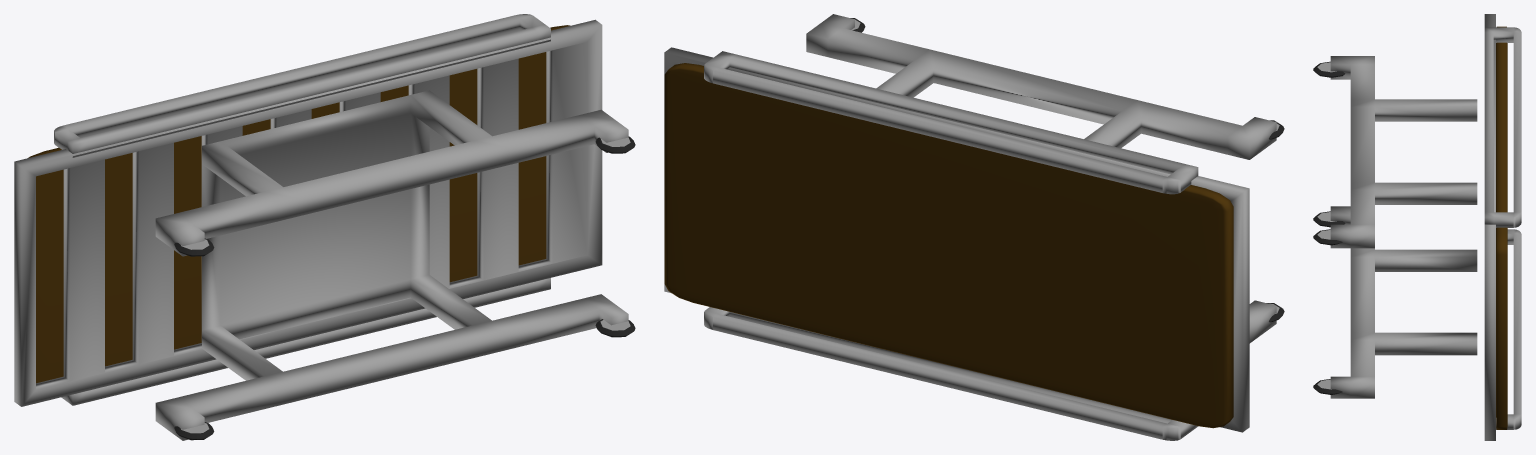
3 renders of one model, left to right at view 1: azimuth 30°, elevation 25°; view 2: azimuth 150°, elevation 25°; view 3: azimuth 270°, elevation 25°, orthographic. The views are drawn at different scales.
Visible parts, largest first — view 1: medical_bed; view 2: medical_bed; view 3: medical_bed.
Boxes of the visible parts, left/top/right/bottom form: medical_bed: left=14, top=14, right=635, bottom=440; medical_bed: left=664, top=14, right=1284, bottom=440; medical_bed: left=1313, top=14, right=1521, bottom=440.
Size of the model in its own units: 210 by 90 by 80.
